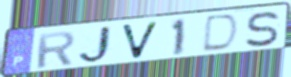1: (168, 17, 186, 58)
D: (199, 13, 241, 54)
J: (77, 24, 117, 66)
R: (35, 30, 77, 70)
S: (244, 10, 282, 49)
V: (119, 20, 161, 61)
